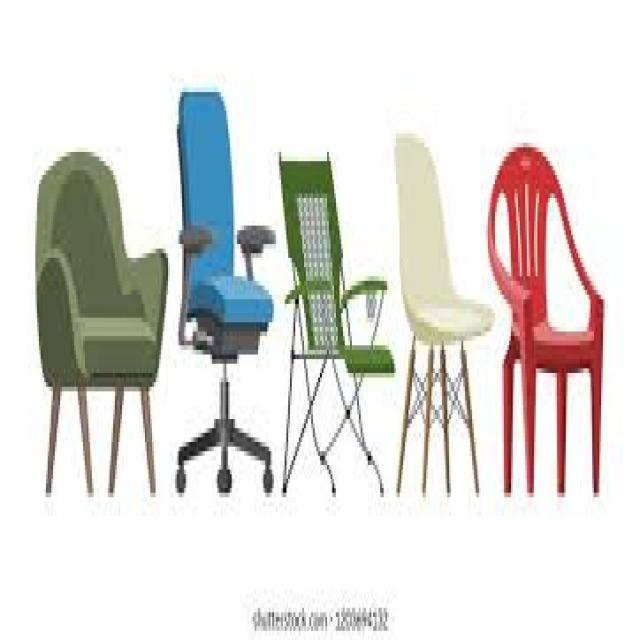chair: (33, 148, 169, 500), (487, 141, 606, 500), (278, 148, 396, 504), (393, 111, 495, 520), (176, 88, 274, 504)
